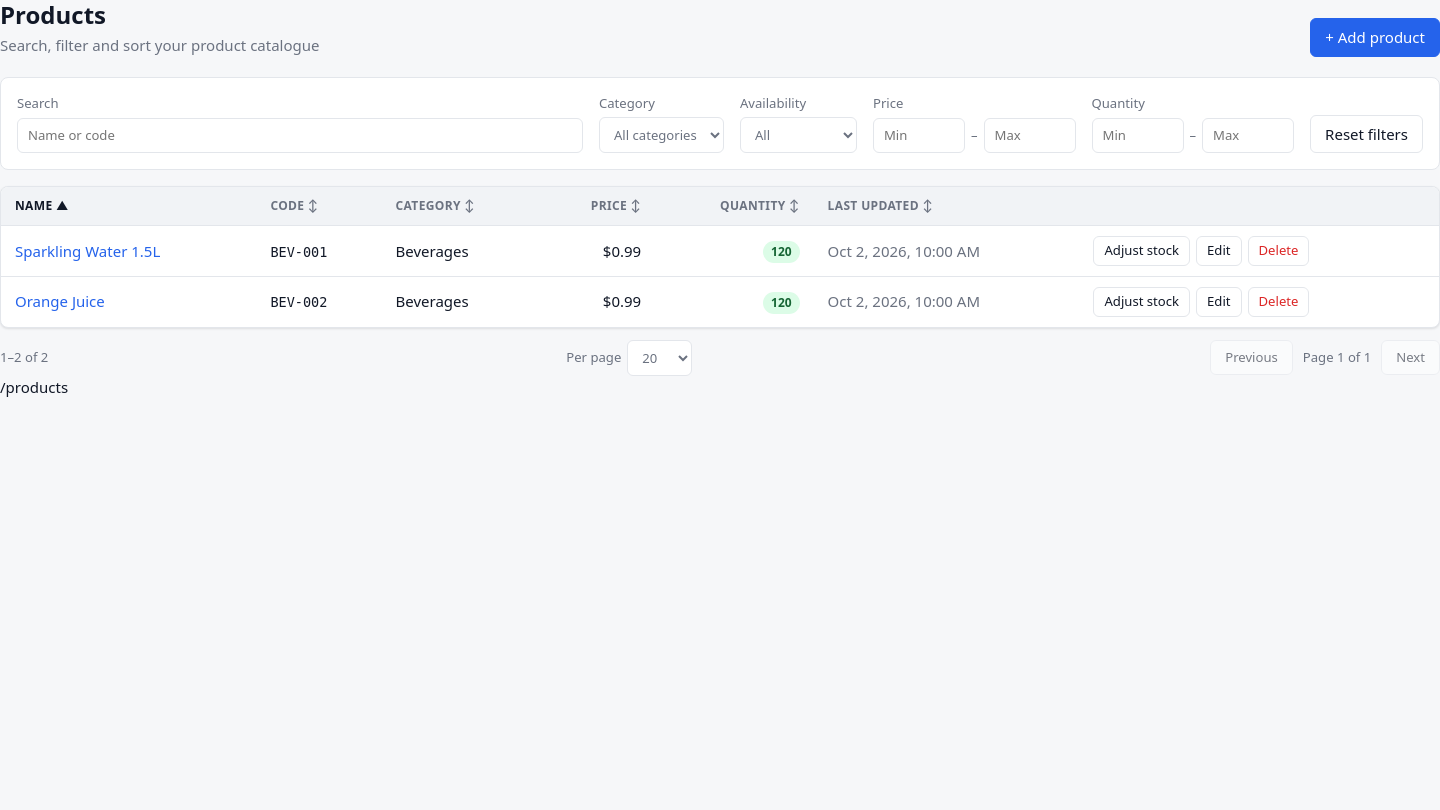
ProductsPage › adjusts stock from the list and reloads it
Expected: the link "Orange Juice" is shown, [15,292,105,312]
Click the button "Adjust stock" in the row of "Sparkling Water 1.5L": (1142, 251) [1094,236,1190,266]
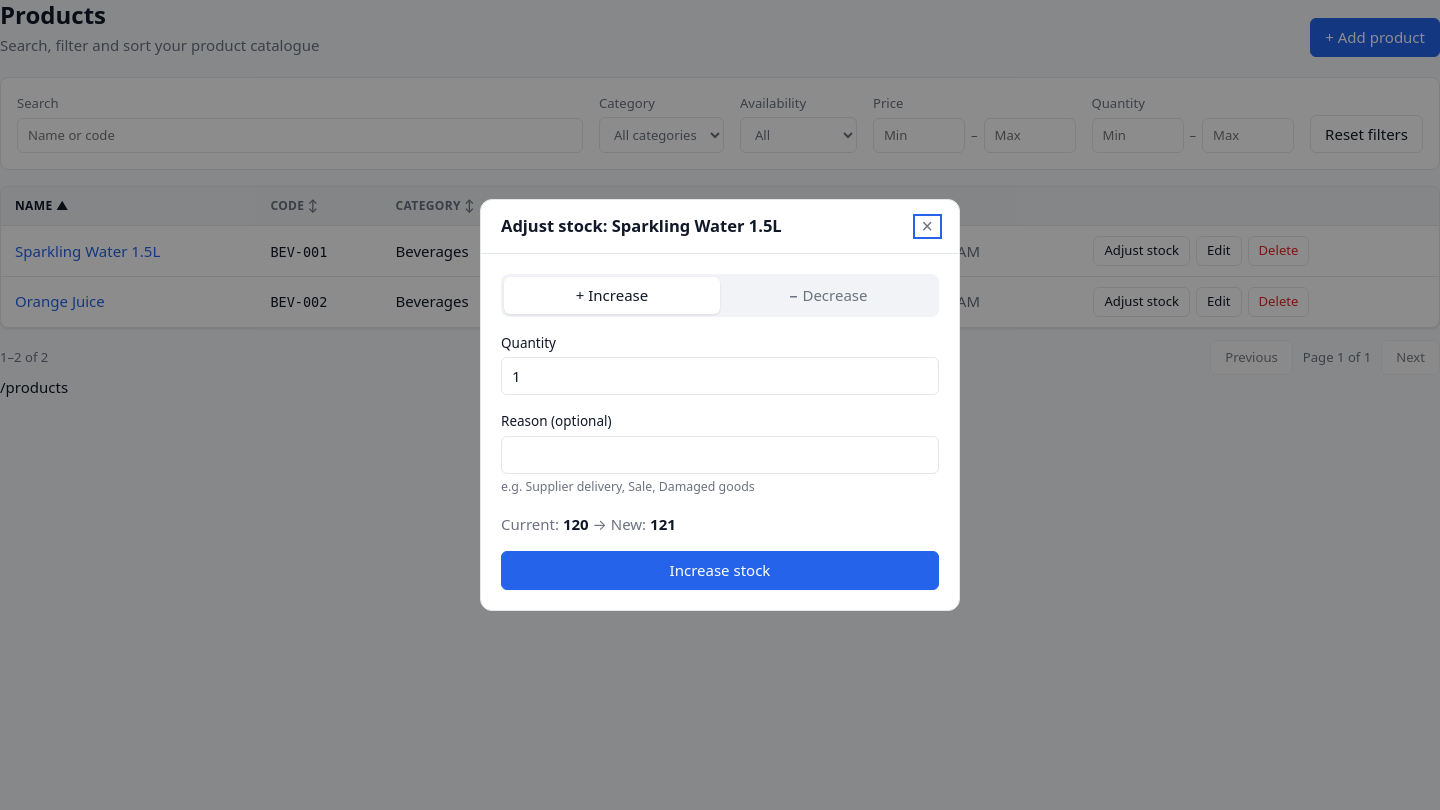
Click the button "Increase stock": (720, 570) [501,551,939,590]
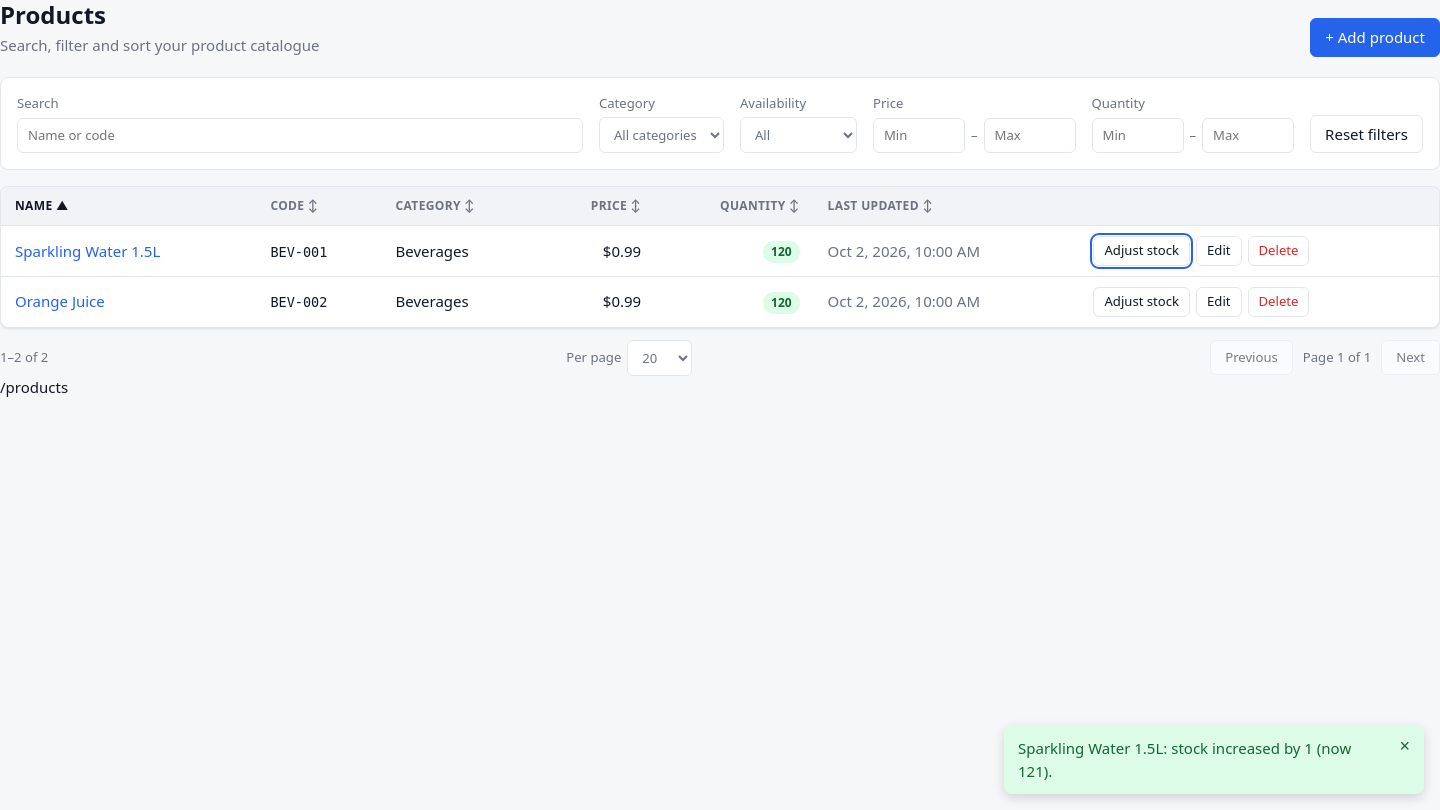
Now the dialog is gone
